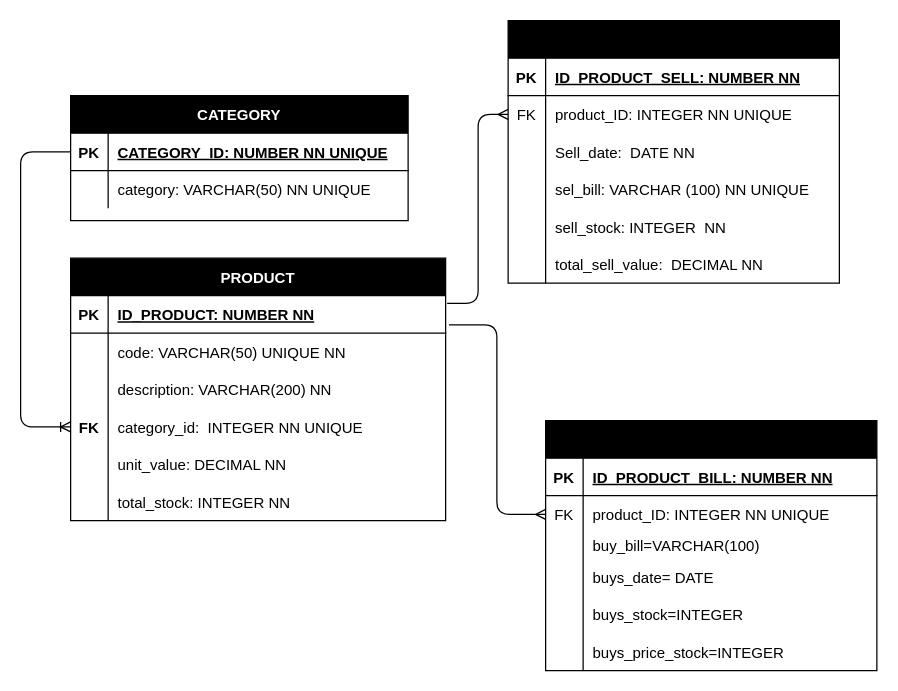
This 898x691 diagram has some shape labels left out. The shapes that lost their labels are listed below. From the top down, each one's box as (x1, y1, x2, y2) in pixels, then its label:
(507, 19, 839, 283): SELL_PRODUCT
(544, 419, 877, 671): BUYS_PRODUCT
